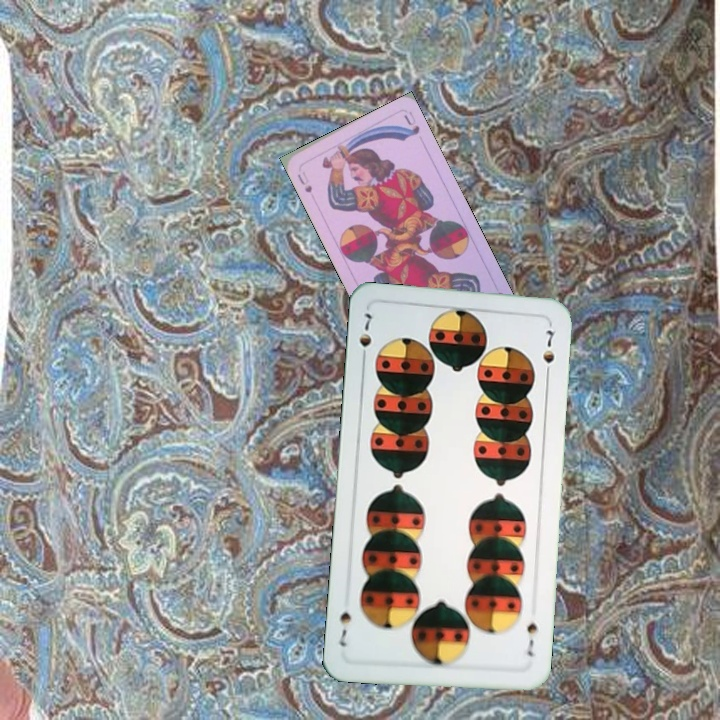S7: (355, 309, 375, 366), (522, 619, 540, 659)
SU: (293, 167, 315, 195)
